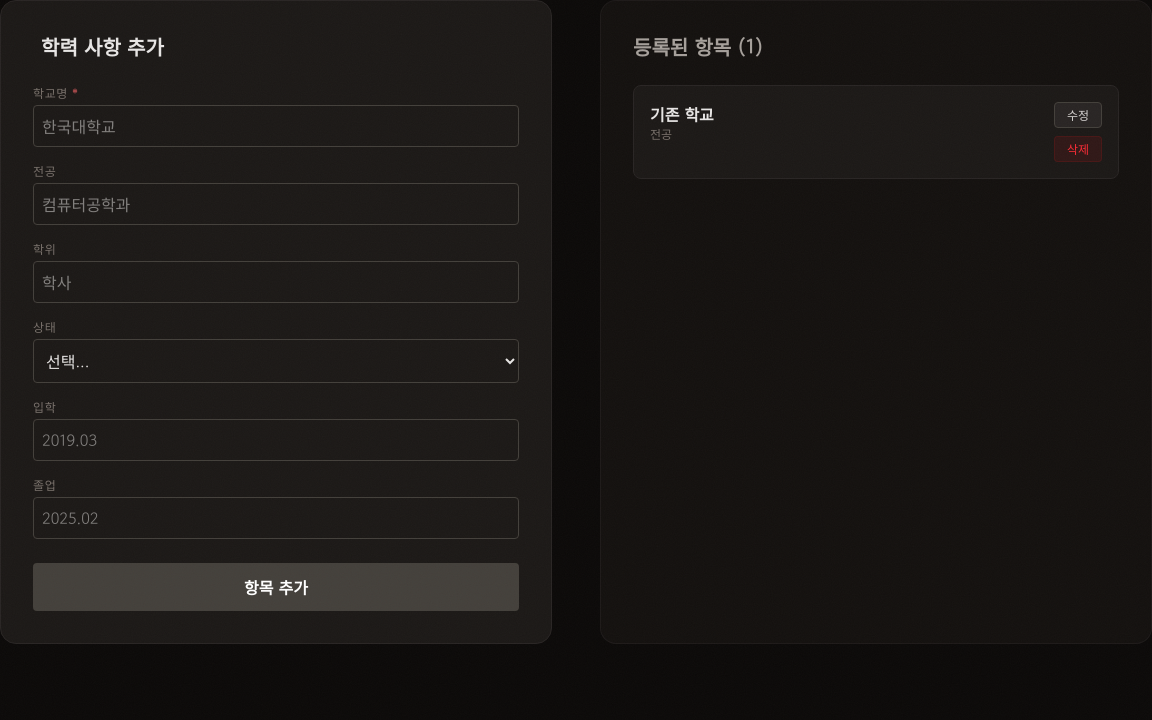
Scenario: keeps confirmed deletion and updates the visible list
This screenshot has width=1152, height=720.
Click the button "삭제": (1078,149) x1=1054 y1=136 x2=1102 y2=162
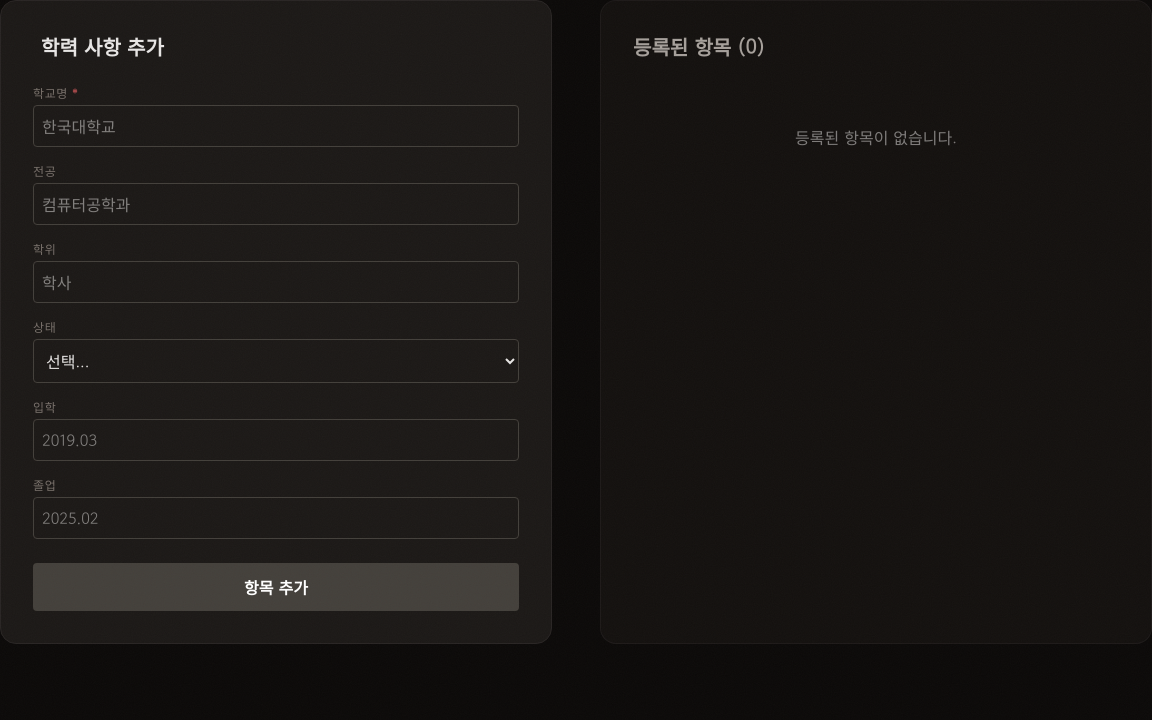
Now the text "등록된 항목이 없습니다." is shown, box x1=795 y1=125 x2=957 y2=149
